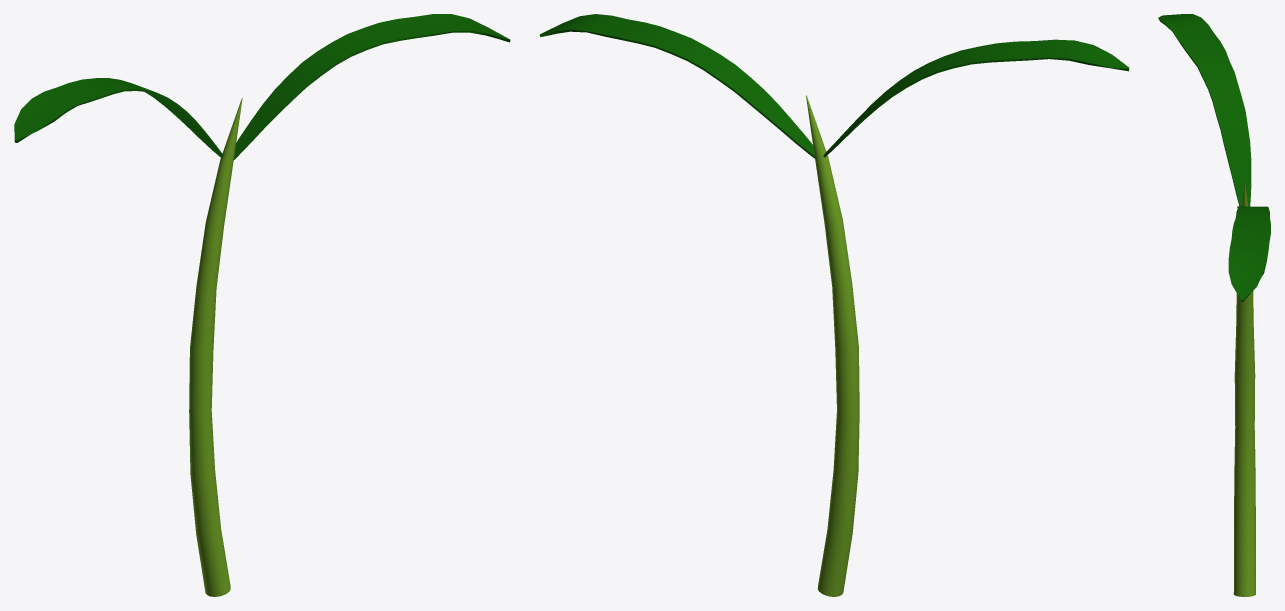
Rendered from 紅蘿蔔發芽.FBX.
3 views of the same model, side by side, from view 1: azimuth 30°, elevation 25°; view 2: azimuth 150°, elevation 25°; view 3: azimuth 270°, elevation 25° (orthographic). The views are drawn at different scales.
Parts seen in each view (by area): view 1: Cylinder003, Box005, Box006; view 2: Cylinder003, Box005, Box006; view 3: Cylinder003, Box006, Box005.
Part boxes in pixels (x1,y1,x2,y2): Cylinder003: (189, 98, 242, 596); Box005: (220, 14, 510, 170); Box006: (14, 78, 223, 157); Cylinder003: (806, 95, 859, 596); Box005: (539, 14, 830, 167); Box006: (823, 39, 1129, 157); Cylinder003: (1233, 183, 1255, 596); Box006: (1158, 14, 1251, 206); Box005: (1228, 206, 1270, 301).
Size of the model in its own units: 18.56 by 18.49 by 3.87.
